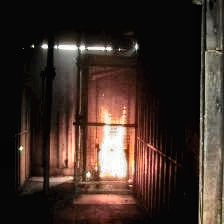fire: (94, 107, 135, 180)
